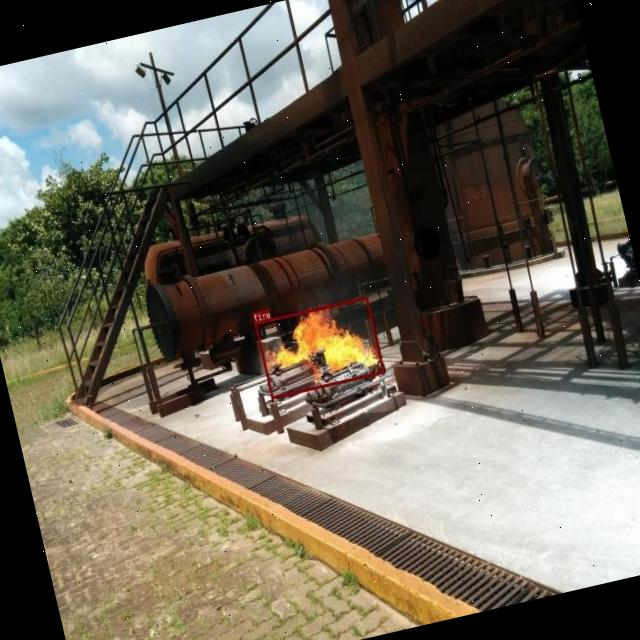fire: (253, 296, 384, 399)
